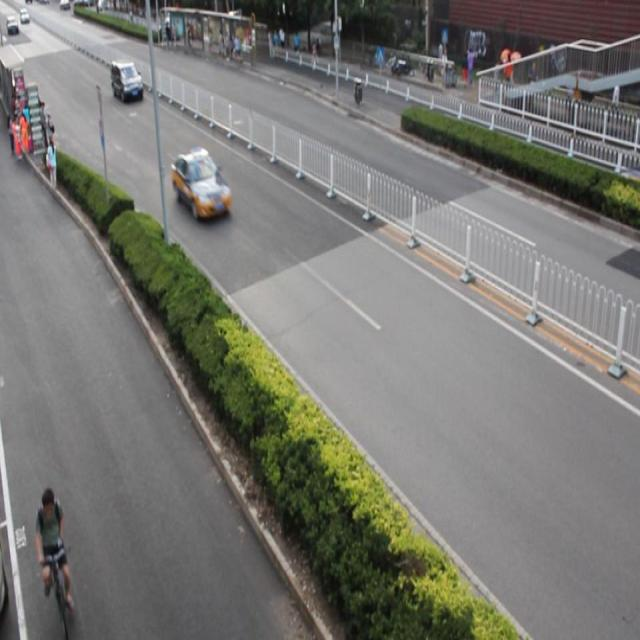car: (170, 148, 229, 221), (110, 62, 142, 103)
